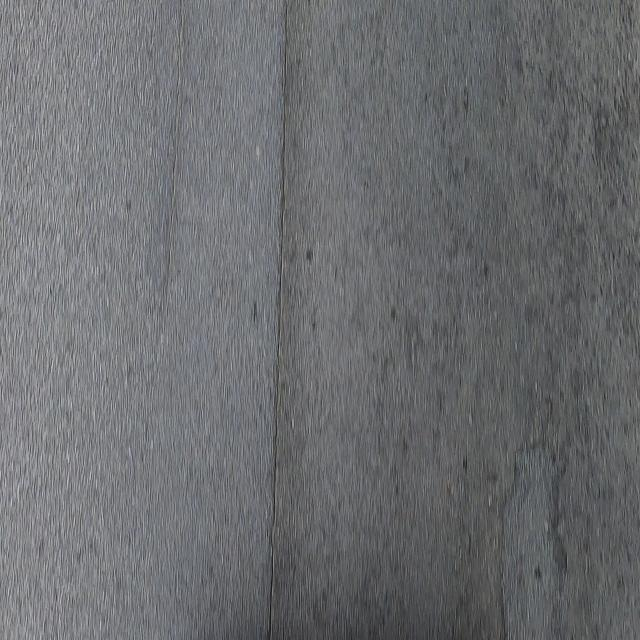Retak-Memanjang: (259, 0, 296, 640)
